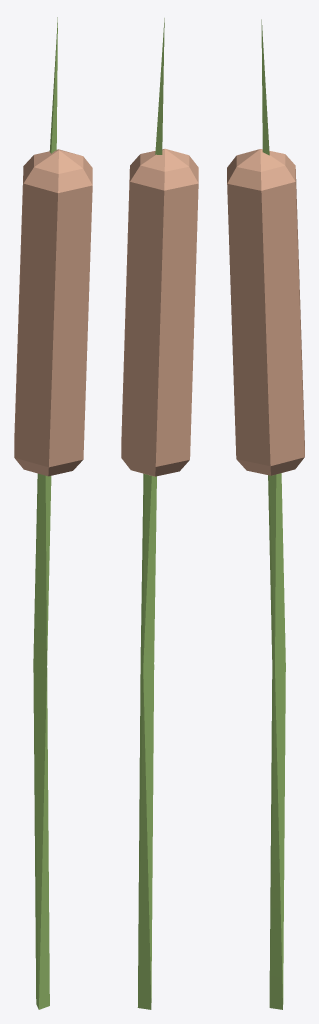
File: Hilly_Prop_Cattail_2.glb
3 renders of one model, left to right at view 1: azimuth 90°, elevation 25°; view 2: azimuth 150°, elevation 25°; view 3: azimuth 270°, elevation 25°, orthographic.
Visible parts, largest first — view 1: Hilly_Prop_Cattail_2; view 2: Hilly_Prop_Cattail_2; view 3: Hilly_Prop_Cattail_2.
Part boxes in pixels (bbox=[...]): Hilly_Prop_Cattail_2: bbox=[14, 17, 92, 1009]; Hilly_Prop_Cattail_2: bbox=[121, 18, 198, 1009]; Hilly_Prop_Cattail_2: bbox=[227, 19, 304, 1009].
Bounding box in the file's own units: 0.0206 × 0.2684 × 0.0191.
